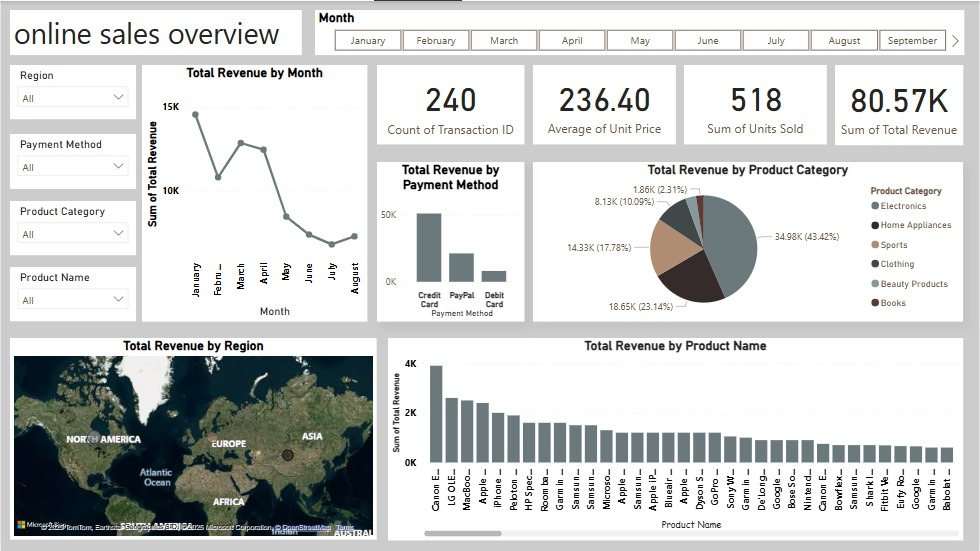

The dashboard page shown, as its layout file describes it:
{"tool":"powerbi","page":{"name":"Page 1","canvas":[1280,720],"ordinal":0},"visuals":[{"type":"card","fields":{"Values":["Sum(Online Sales Data.Total Revenue)"]},"box":[1091.5,83.5,168.5,105.1],"z":1000},{"type":"card","fields":{"Values":["Sum(Online Sales Data.Units Sold)"]},"box":[894.2,83.5,187.2,103.7],"z":2000},{"type":"pieChart","title":"Total Revenue by Product Category","fields":{"Category":["Online Sales Data.Product Category"],"Y":["Sum(Online Sales Data.Total Revenue)"]},"box":[697,210.2,563,208.8],"z":3000},{"type":"card","fields":{"Values":["Avg(Online Sales Data.Unit Price)"]},"box":[697,83.5,187.2,103.7],"z":4000},{"type":"card","fields":{"Values":["CountNonNull(Online Sales Data.Transaction ID)"]},"box":[492.5,83.5,193,103.7],"z":5000},{"type":"map","title":" Total Revenue by Region","fields":{"Category":["Online Sales Data.Region"],"Size":["Sum(Online Sales Data.Total Revenue)"]},"box":[11.8,441.2,480.4,264.4],"z":6000},{"type":"clusteredColumnChart","title":"Total Revenue by Product Name","fields":{"Category":["Online Sales Data.Product Name"],"Y":["Sum(Online Sales Data.Total Revenue)"]},"box":[506.9,440.6,753.1,265],"z":7000},{"type":"slicer","fields":{"Values":["Online Sales Data.Payment Method"]},"box":[11.8,174.1,164.9,72],"z":8000},{"type":"slicer","fields":{"Values":["Online Sales Data.Region"]},"box":[11.8,83.8,164.9,70.7],"z":9000},{"type":"lineChart","title":" Total Revenue by Month","fields":{"Category":["Online Sales Data.Date.Variation.Date Hierarchy.Month"],"Y":["Sum(Online Sales Data.Total Revenue)"]},"box":[184.3,83.5,295.2,335.5],"z":10000},{"type":"textbox","box":[11.8,11.8,382.3,58.9],"z":11000},{"type":"slicer","fields":{"Values":["Online Sales Data.Product Category"]},"box":[11.8,261.8,164.9,70.7],"z":12000},{"type":"slicer","fields":{"Values":["Online Sales Data.Product Name"]},"box":[11.8,348.2,164.9,70.7],"z":13000},{"type":"slicer","title":"Month","fields":{"Values":["Online Sales Data.Date.Variation.Date Hierarchy.Month"]},"box":[410.4,11.5,849.6,59],"z":14000},{"type":"clusteredColumnChart","title":" Total Revenue by Payment Method","fields":{"Category":["Online Sales Data.Payment Method"],"Y":["Sum(Online Sales Data.Total Revenue)"]},"box":[492.5,210.2,193,208.8],"z":15000}]}

Visuals, with their boxes in screenshot pixels (x1, y1, x2, y2), scaled from the page's 1280x720 canvas onto the 980x551 screenshot:
card - Sum(Online Sales Data.Total Revenue): region(836, 64, 965, 144)
card - Sum(Online Sales Data.Units Sold): region(685, 64, 828, 143)
"Total Revenue by Product Category" pieChart: region(534, 161, 965, 321)
card - Avg(Online Sales Data.Unit Price): region(534, 64, 677, 143)
card - CountNonNull(Online Sales Data.Transaction ID): region(377, 64, 525, 143)
" Total Revenue by Region" map: region(9, 338, 377, 540)
"Total Revenue by Product Name" clusteredColumnChart: region(388, 337, 965, 540)
slicer - Online Sales Data.Payment Method: region(9, 133, 135, 188)
slicer - Online Sales Data.Region: region(9, 64, 135, 118)
" Total Revenue by Month" lineChart: region(141, 64, 367, 321)
textbox: region(9, 9, 302, 54)
slicer - Online Sales Data.Product Category: region(9, 200, 135, 254)
slicer - Online Sales Data.Product Name: region(9, 266, 135, 321)
"Month" slicer: region(314, 9, 965, 54)
" Total Revenue by Payment Method" clusteredColumnChart: region(377, 161, 525, 321)
